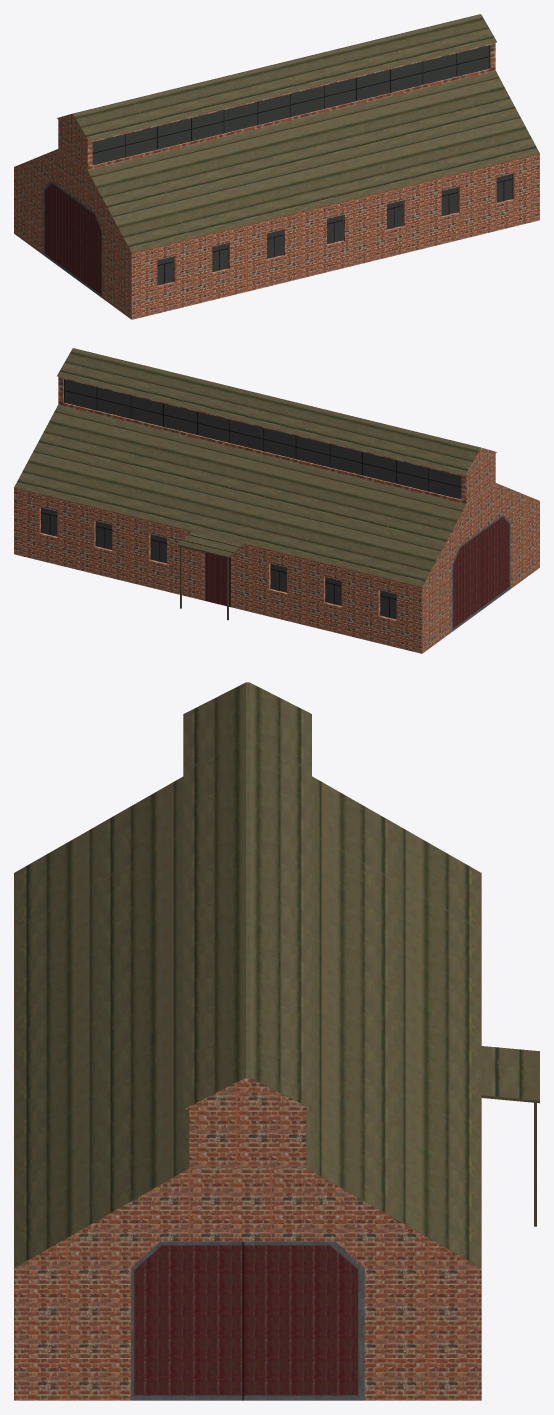
Rendered from barracks.glb.
The picture shows the model from 3 angles, top to bottom: view 1: azimuth 30°, elevation 25°; view 2: azimuth 150°, elevation 25°; view 3: azimuth 270°, elevation 25°; orthographic projection. The views are drawn at different scales.
Parts seen in each view (by area): view 1: base; view 2: base, door; view 3: base.
Part boxes in pixels (box(x1,y1,x2,y2)): base: box(14, 14, 539, 319); base: box(14, 348, 539, 653); door: box(205, 552, 230, 607); base: box(14, 682, 539, 1400).
Bounding box in the file's own units: 10 × 3.81 × 5.62.
Materials: 1 (1 with a texture image).
